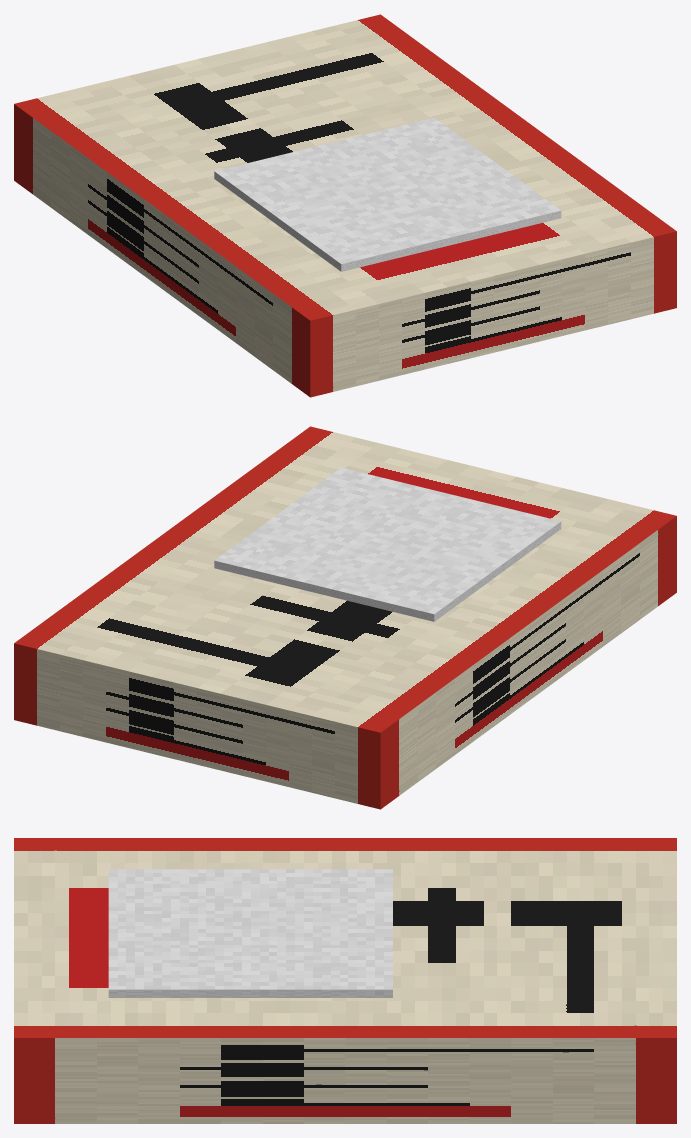
File: seeds.obj
3 renders of one model, top to bottom at view 1: azimuth 30°, elevation 25°; view 2: azimuth 150°, elevation 25°; view 3: azimuth 270°, elevation 25°, orthographic. The views are drawn at different scales.
Visible parts, largest first — view 1: part0, part1; view 2: part0, part1; view 3: part0, part1.
Boxes of the visible parts, box(x1,y1,x2,y2) form: part0: box(14, 14, 676, 397); part1: box(214, 117, 561, 271); part0: box(14, 426, 676, 809); part1: box(214, 467, 561, 621); part0: box(14, 838, 676, 1123); part1: box(108, 869, 392, 997).
Size of the model in its own units: 0.1 by 0.022 by 0.14.
2 materials, 2 textured.
